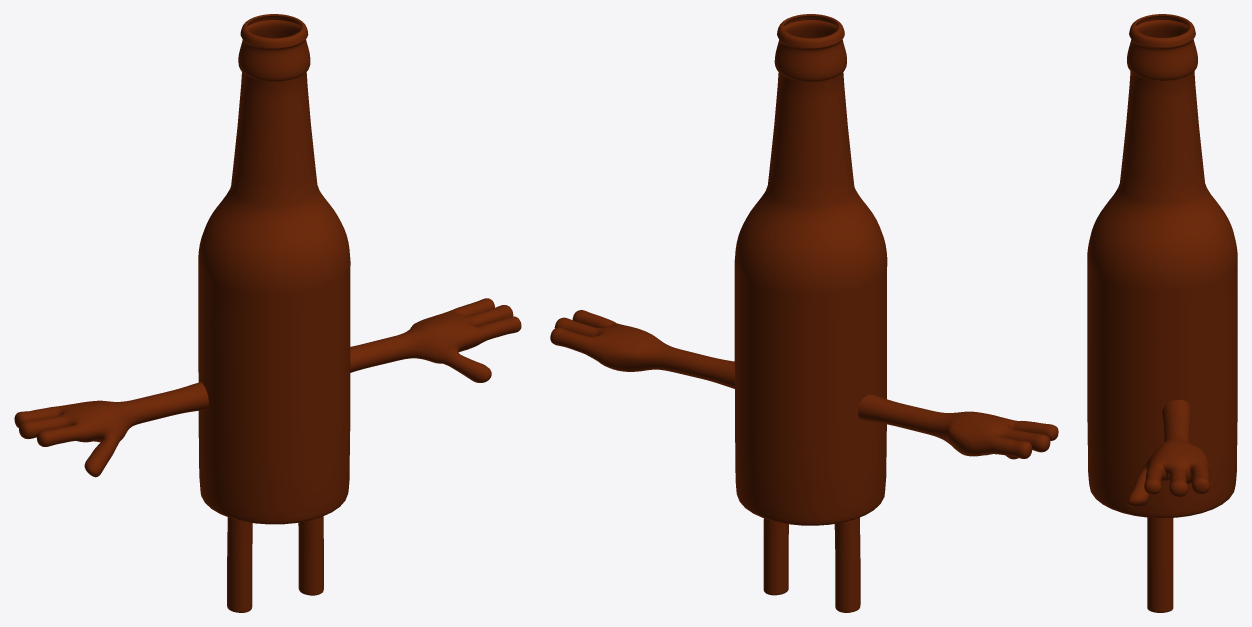
The model's file is Mashy6_mask.glb.
3 renders of one model, left to right at view 1: azimuth 30°, elevation 25°; view 2: azimuth 150°, elevation 25°; view 3: azimuth 270°, elevation 25°, orthographic.
Parts seen in each view (by area): view 1: Bottle; view 2: Bottle; view 3: Bottle.
Part boxes in pixels (x1,y1,x2,y2): Bottle: [14, 14, 521, 612]; Bottle: [550, 14, 1058, 612]; Bottle: [1087, 14, 1237, 612].
Bounding box in the file's own units: 2.72 × 3.03 × 0.7327.
